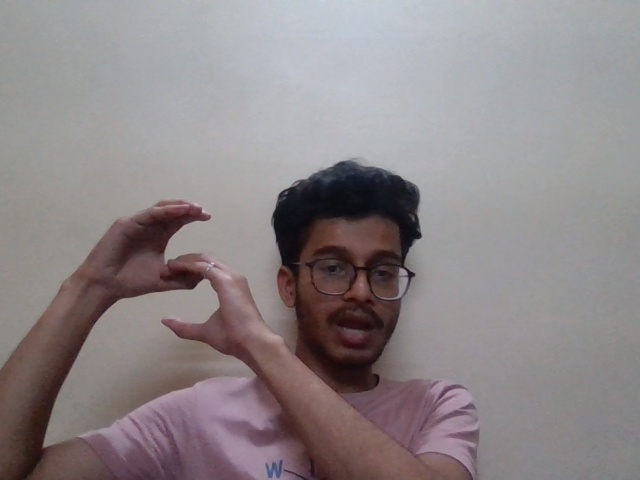S: (68, 188, 277, 360)
